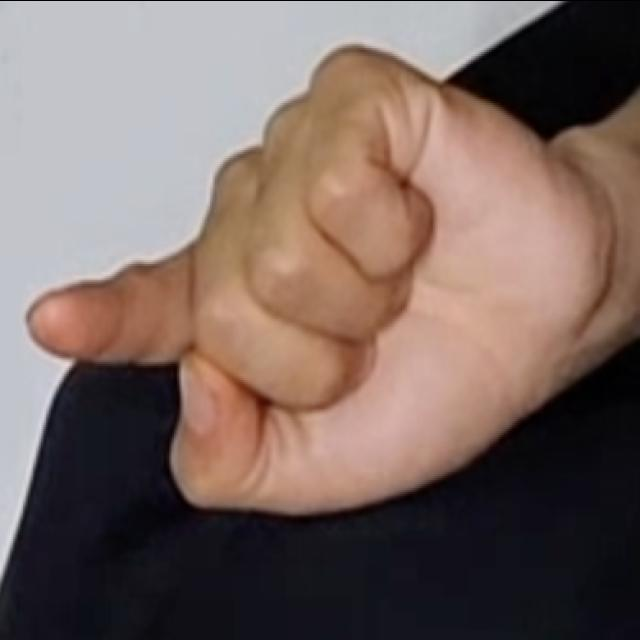Z: (18, 39, 606, 524)
